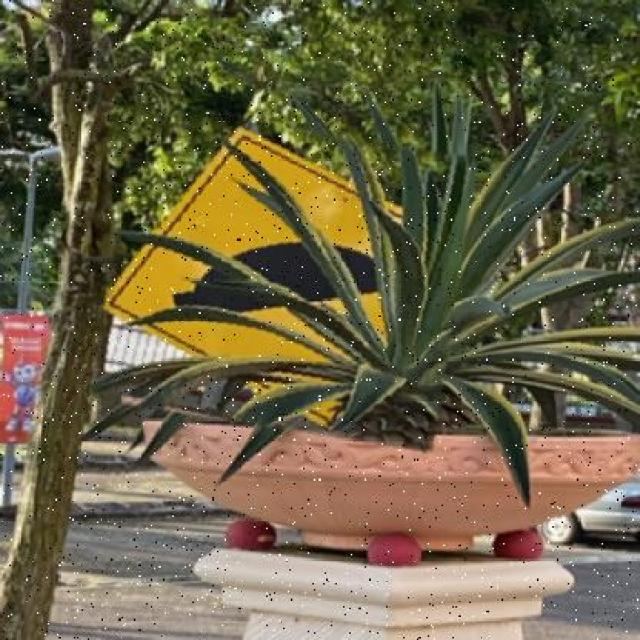Polisi Tidur: (101, 118, 468, 440)
